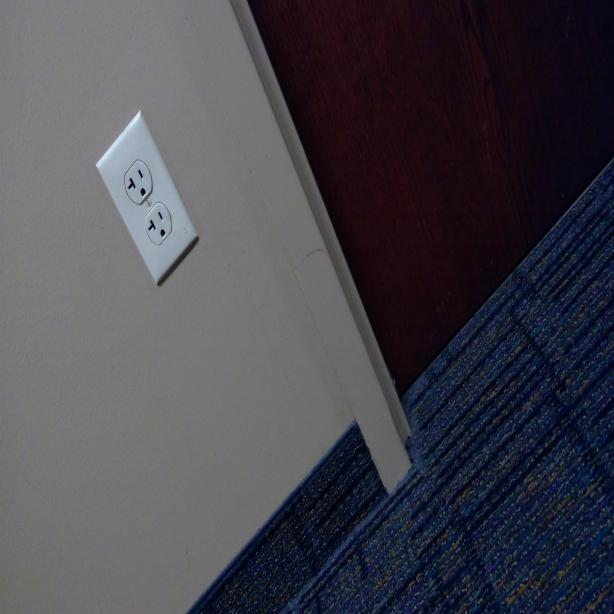typeb: (122, 163, 148, 200), (147, 208, 167, 242)
